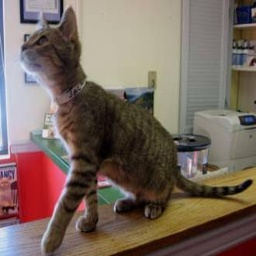cat: (9, 5, 227, 244)
